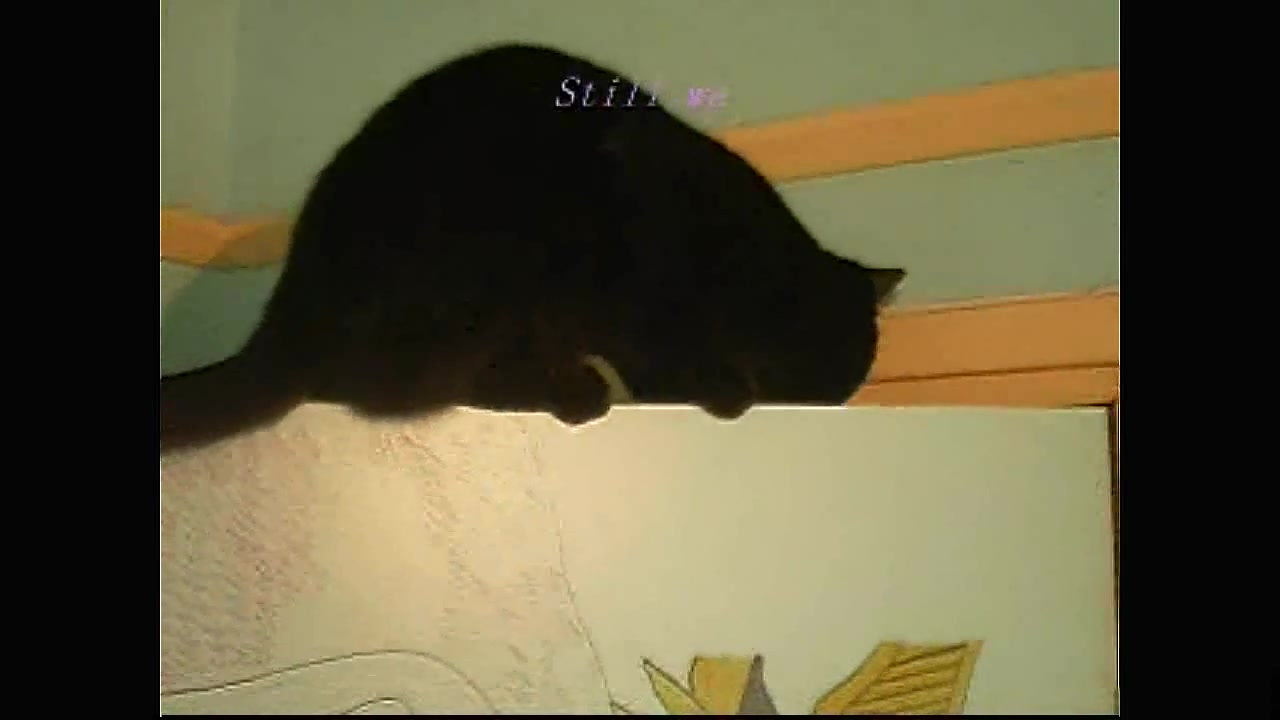cat: (160, 43, 909, 453)
